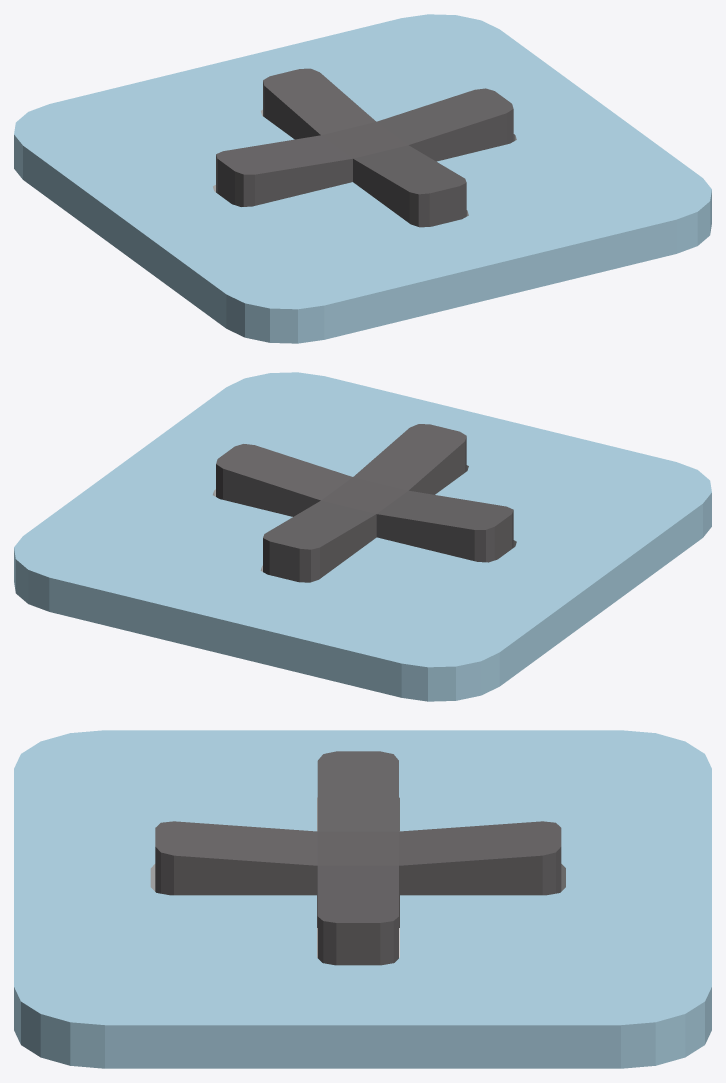
File: Steuerkreuz.fbx
3 views of the same model, one above another, from view 1: azimuth 30°, elevation 25°; view 2: azimuth 150°, elevation 25°; view 3: azimuth 270°, elevation 25° (orthographic). The views are drawn at different scales.
Visible parts, largest first — view 1: Base, Steuerkreuz; view 2: Base, Steuerkreuz; view 3: Base, Steuerkreuz.
Boxes of the visible parts, bbox=[...] form: Base: bbox=[14, 14, 711, 343]; Steuerkreuz: bbox=[216, 68, 513, 227]; Base: bbox=[14, 372, 711, 701]; Steuerkreuz: bbox=[216, 424, 513, 582]; Base: bbox=[14, 730, 711, 1068]; Steuerkreuz: bbox=[155, 751, 561, 965].
Bounding box in the file's own units: 32 × 4.25 × 32.
